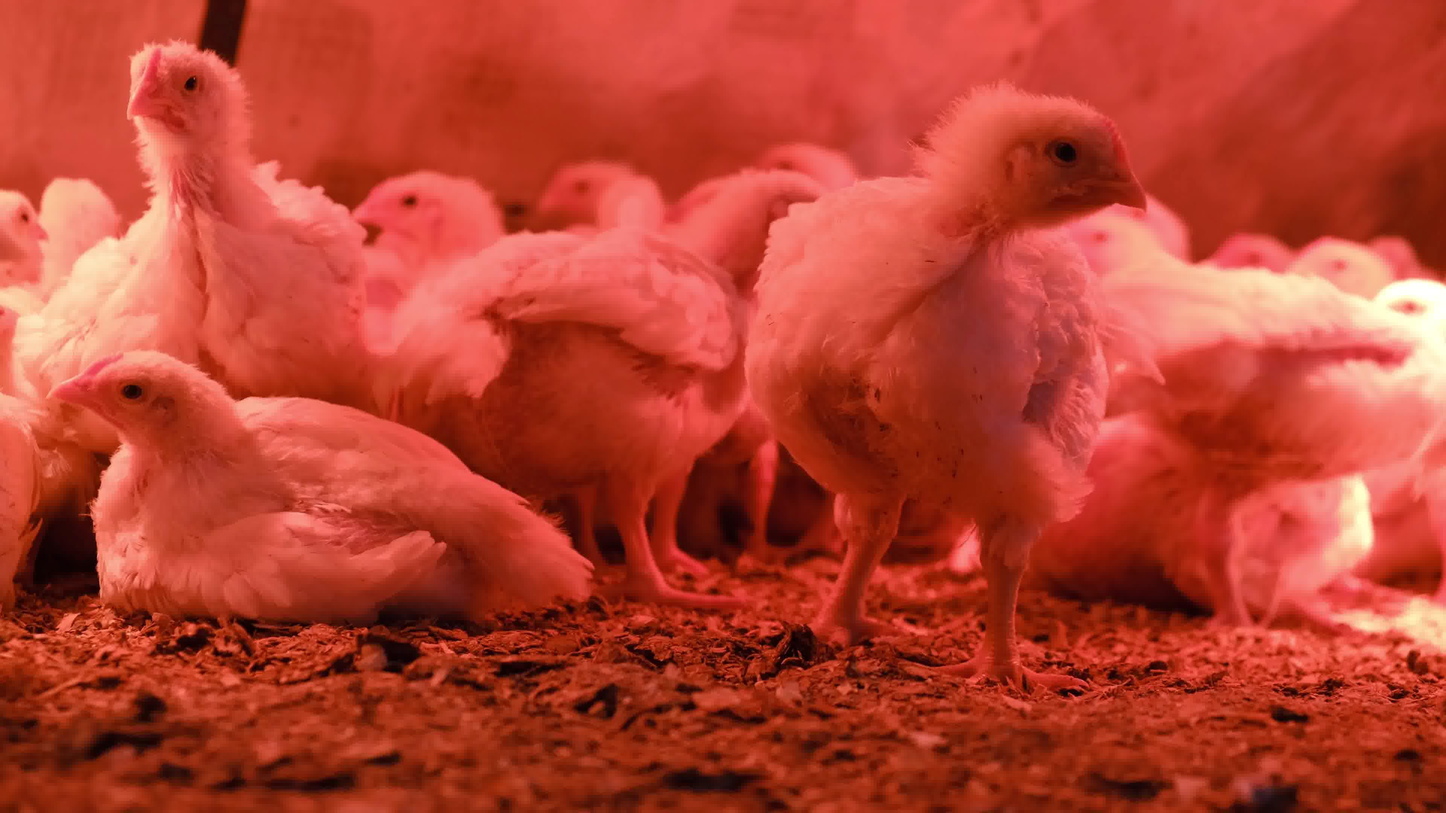AbNormal: (38, 347, 587, 610), (1117, 475, 1382, 635)
Normal: (741, 85, 1151, 691), (394, 170, 825, 614), (1082, 273, 1446, 634), (22, 38, 368, 395), (353, 174, 509, 307), (543, 157, 673, 273), (40, 177, 113, 312), (1058, 211, 1171, 289), (1295, 226, 1399, 304), (765, 143, 861, 203), (0, 190, 46, 307), (1217, 228, 1277, 274)
